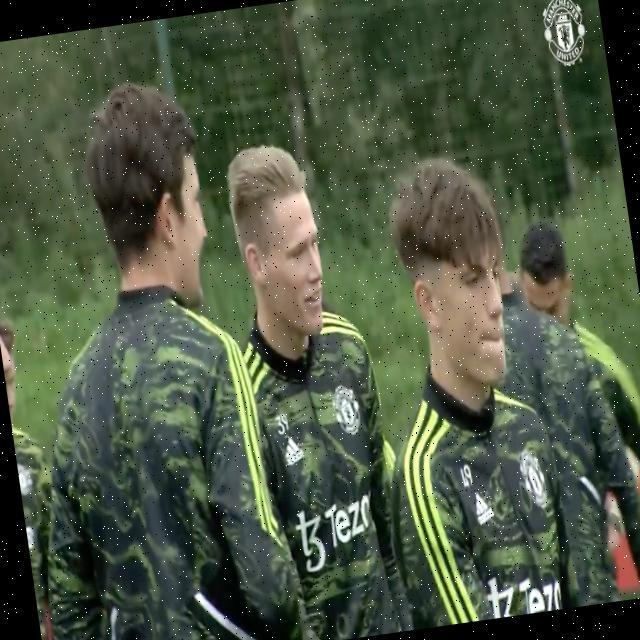Adidas: (472, 486, 497, 527), (282, 432, 307, 469)
